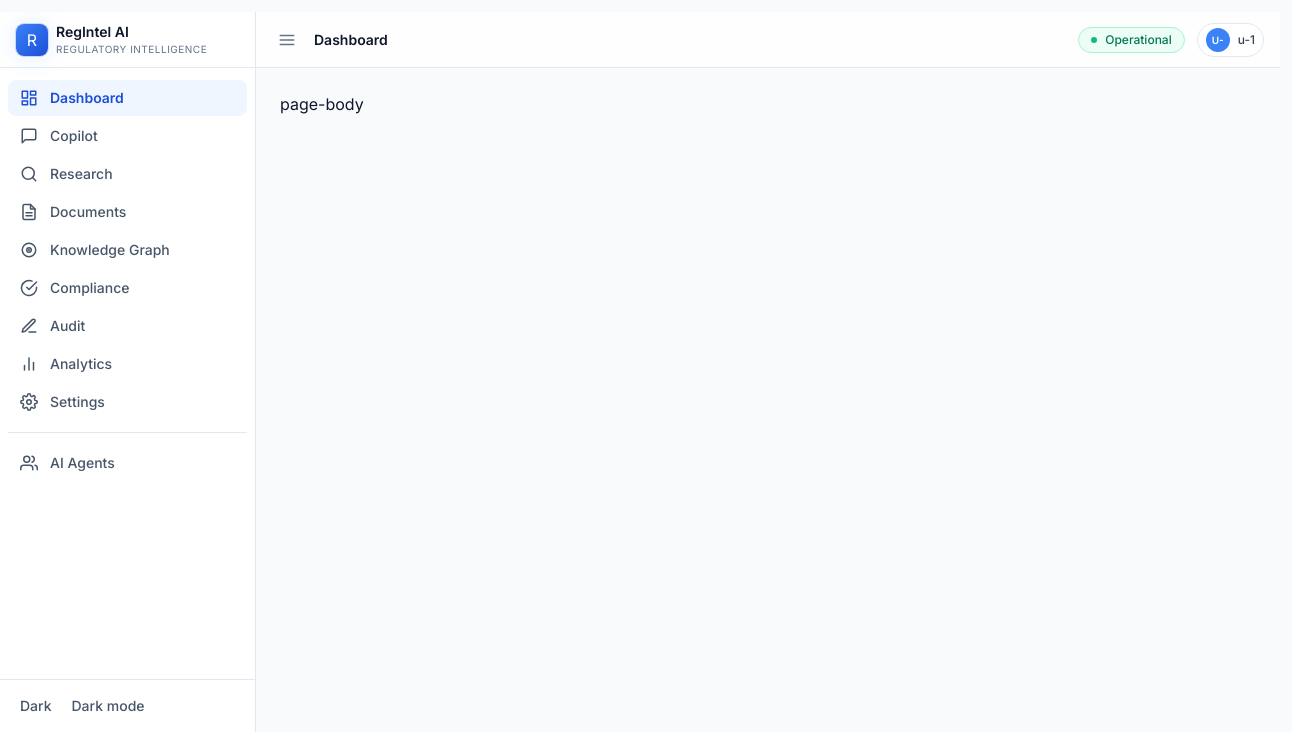
account menu › 19 + 23. sign out delegates to AuthProvider and lands on login
Expected: the text "page-body" is shown, [280, 94, 364, 114]
Click the button named "Account menu for" at (1230, 40), box [1197, 22, 1264, 56]
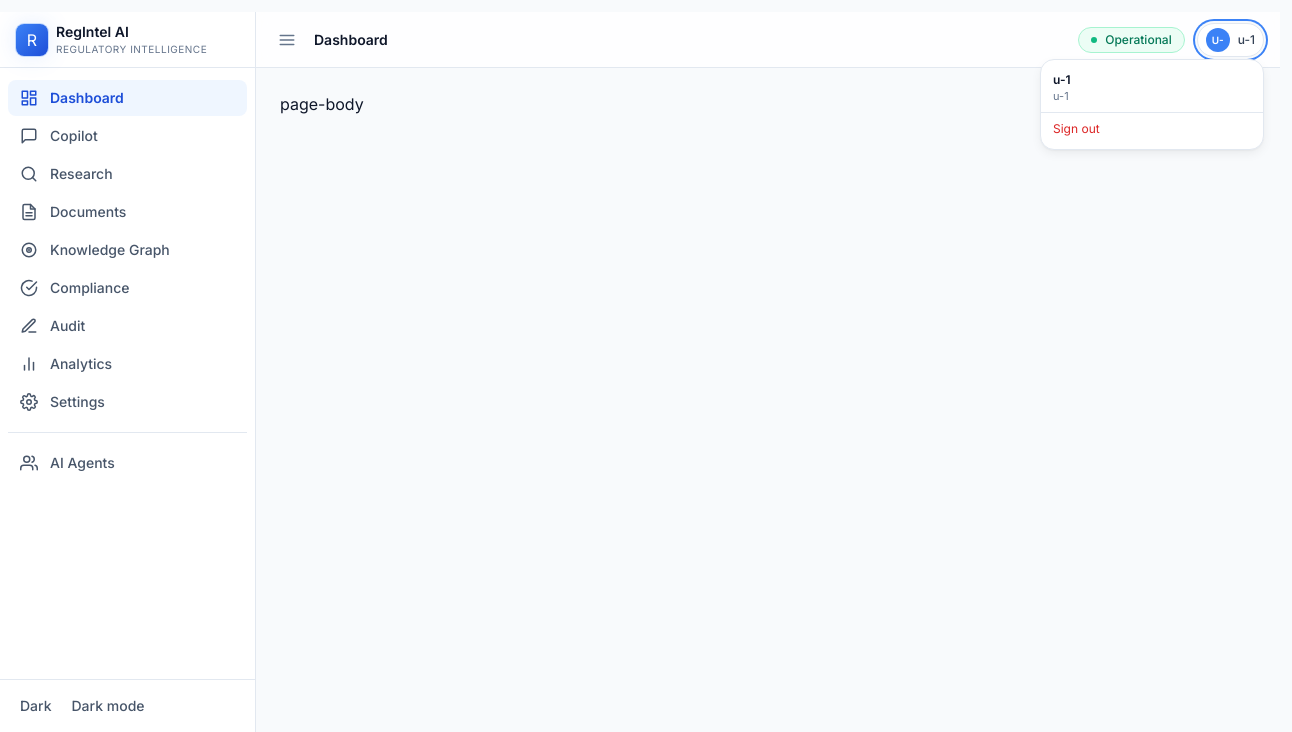
Click the menu item "Sign out" at (1152, 128), box [1041, 112, 1263, 144]
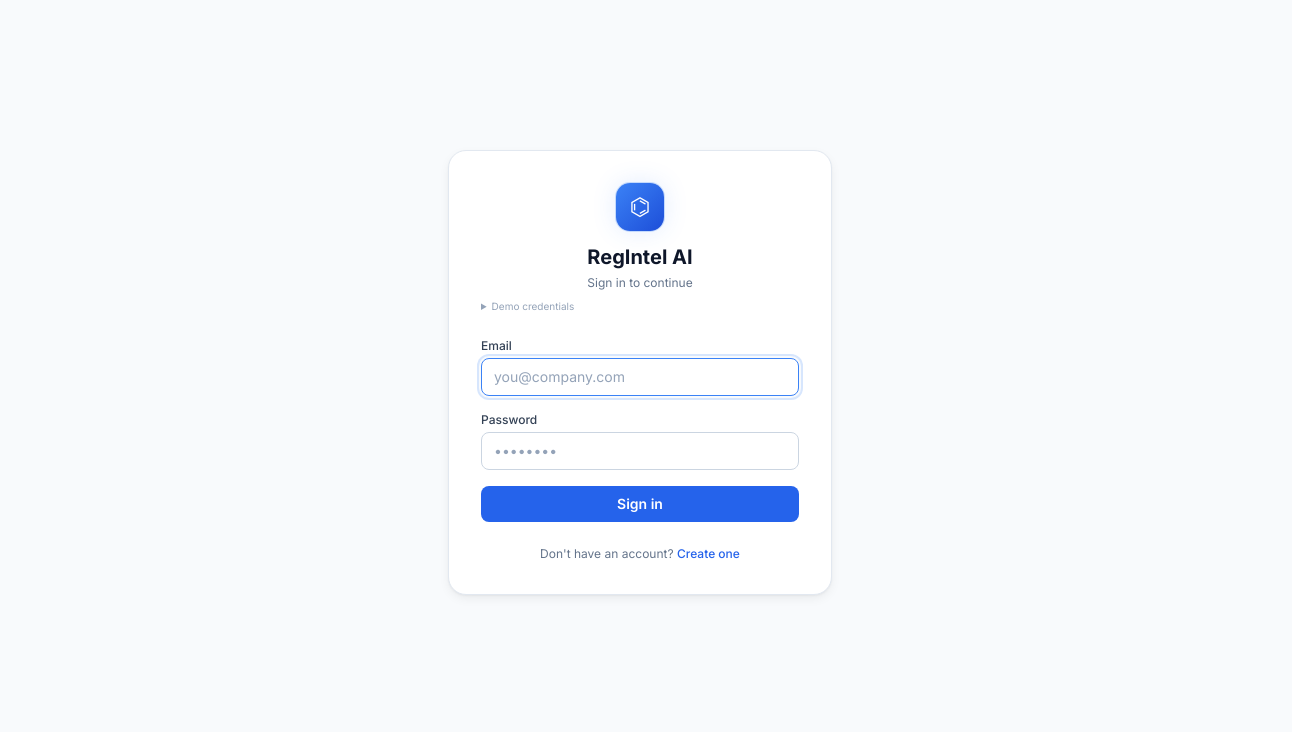
Now the field labelled "Email" is shown, box [481, 358, 799, 396]
